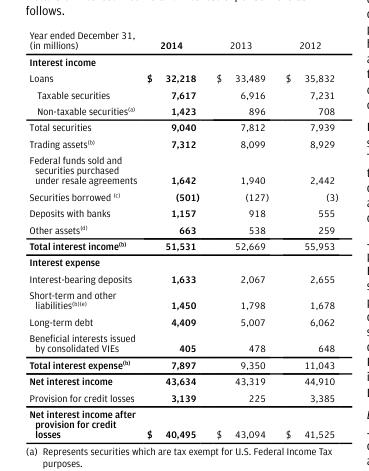table: (28, 28, 337, 439)
table column: (28, 28, 141, 439), (207, 28, 276, 439), (141, 28, 207, 439), (276, 28, 337, 439)
table column header: (28, 28, 337, 52)
table projected row header: (28, 52, 337, 69), (28, 253, 337, 270)
table row: (28, 151, 337, 187), (28, 405, 337, 439), (28, 286, 337, 312), (28, 329, 337, 355), (28, 28, 337, 52), (28, 52, 337, 69), (28, 85, 337, 102), (28, 134, 337, 151), (28, 187, 337, 204), (28, 220, 337, 237), (28, 253, 337, 270), (28, 312, 337, 329), (28, 355, 337, 372), (28, 388, 337, 405), (28, 69, 337, 85), (28, 102, 337, 118), (28, 118, 337, 134), (28, 204, 337, 220), (28, 237, 337, 253), (28, 270, 337, 286), (28, 372, 337, 388)
